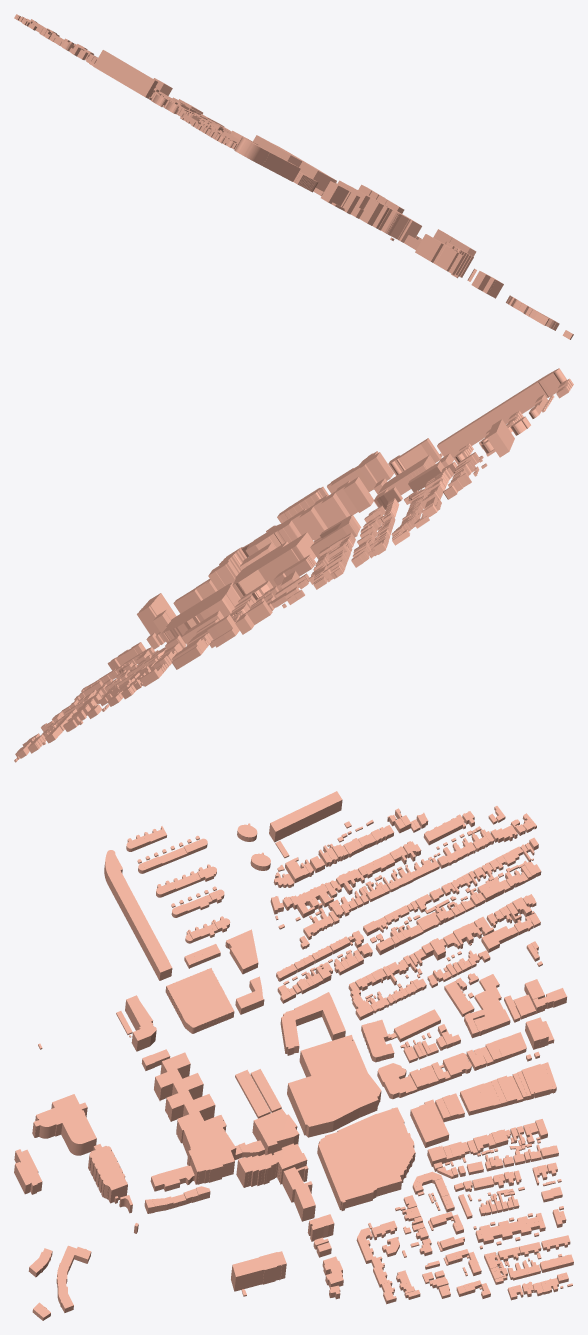
The picture shows the model from 3 angles, top to bottom: view 1: azimuth 30°, elevation 25°; view 2: azimuth 150°, elevation 25°; view 3: azimuth 270°, elevation 25°; orthographic projection. The views are drawn at different scales.
Bounding box in the file's own units: 541 × 407 × 621.
